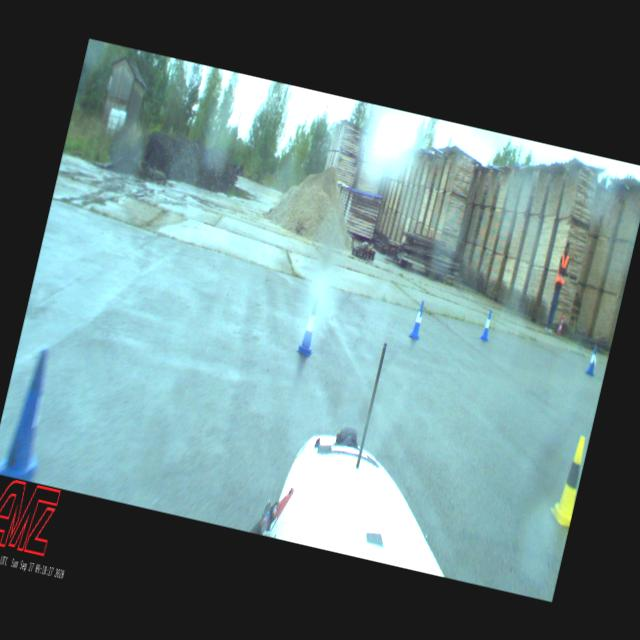blue_cone: (0, 344, 65, 482), (296, 298, 324, 357), (408, 299, 428, 340), (585, 343, 600, 376), (479, 309, 494, 340)
yellow_cone: (547, 432, 589, 527)
